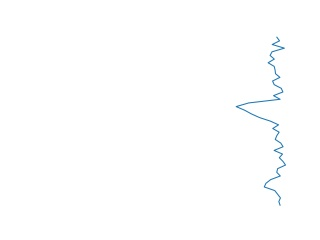interdistributaryEstuary: (232, 36, 295, 204)
